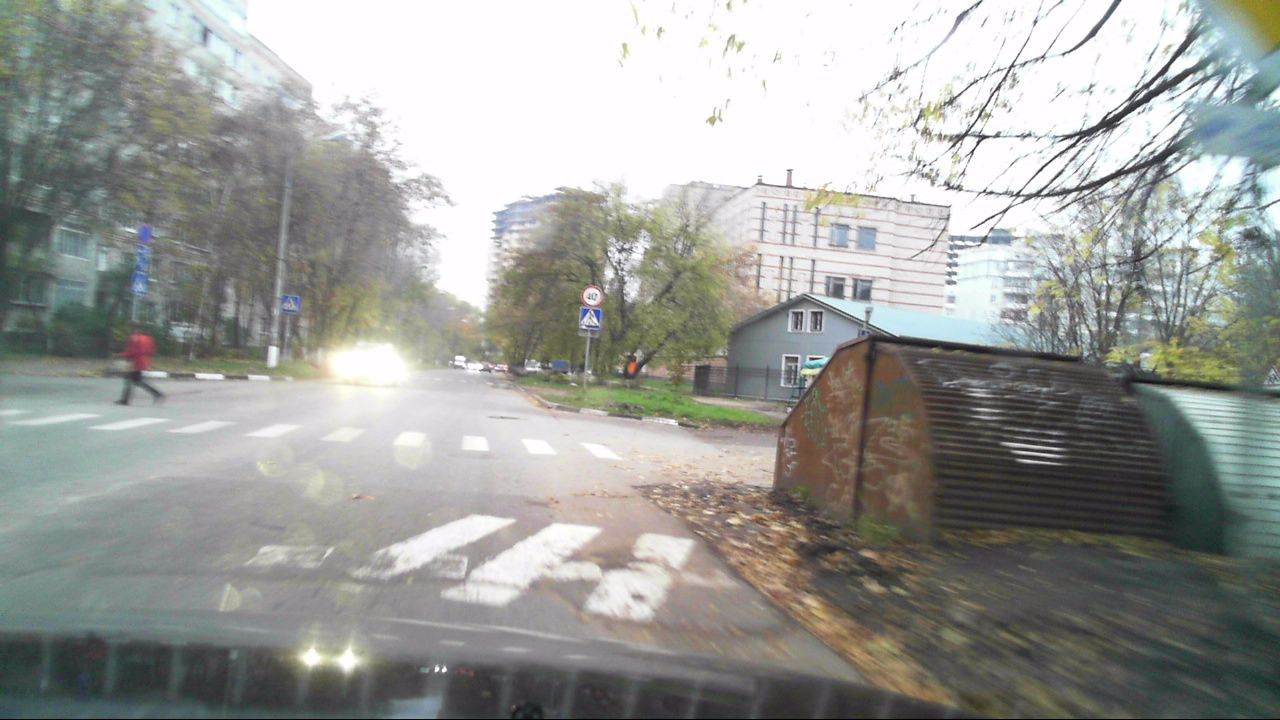speed_warning_40: (581, 285, 602, 307)
